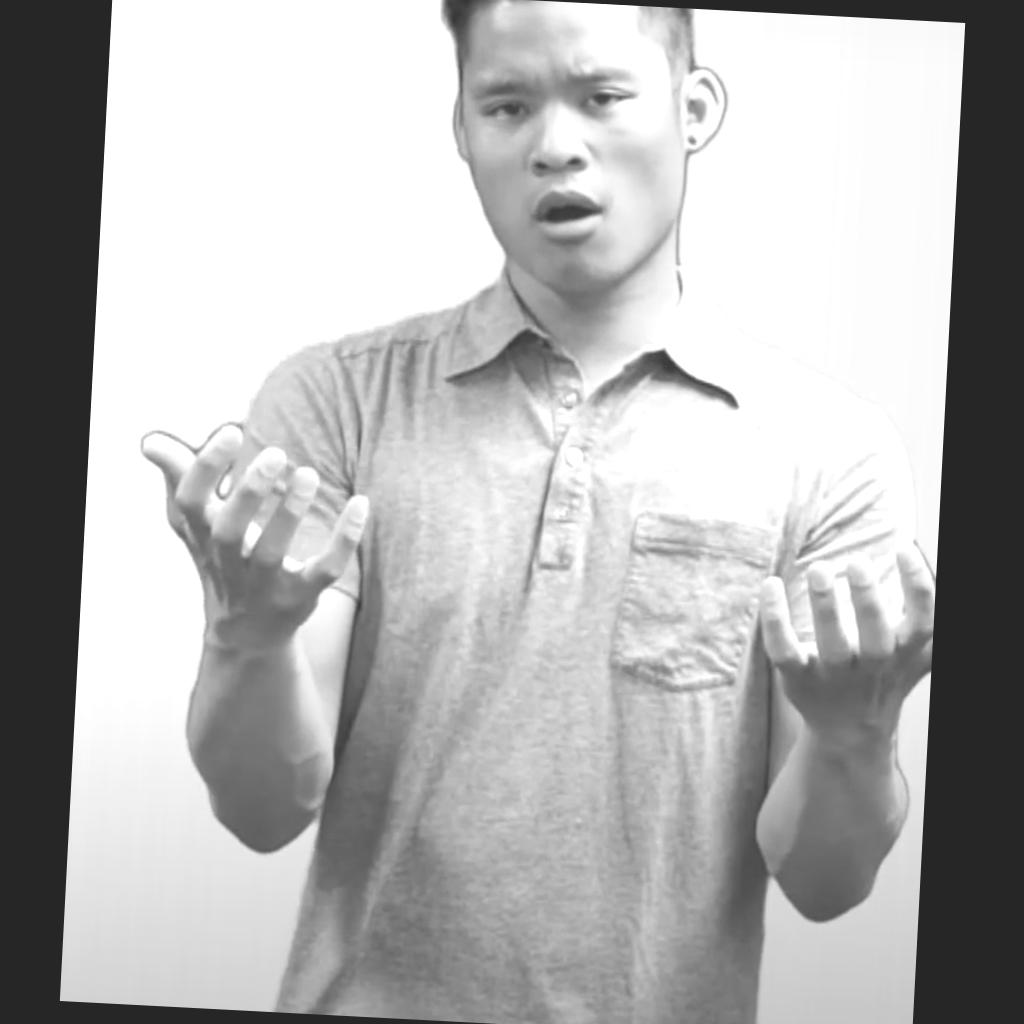want: (128, 418, 942, 724)
